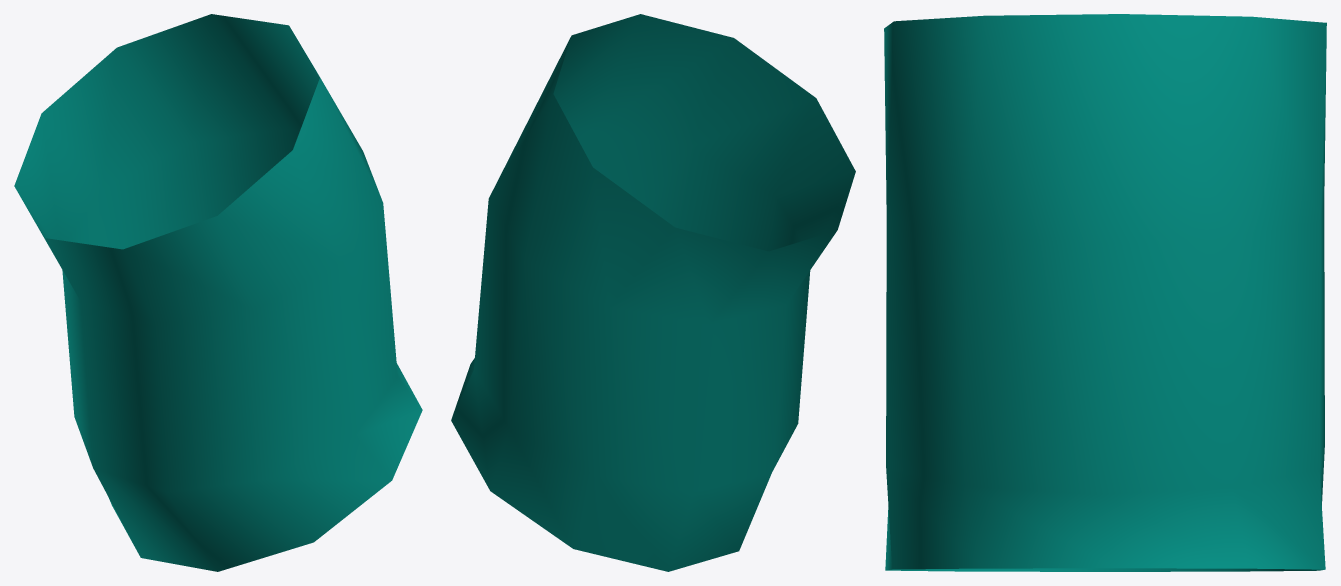
3 views of the same model, side by side, from view 1: azimuth 30°, elevation 25°; view 2: azimuth 150°, elevation 25°; view 3: azimuth 270°, elevation 25° (orthographic). The views are drawn at different scales.
Visible parts, largest first — view 1: TubeRenderer(Clone); view 2: TubeRenderer(Clone); view 3: TubeRenderer(Clone).
Part boxes in pixels (x1,y1,x2,y2): TubeRenderer(Clone): (14,14,422,571); TubeRenderer(Clone): (451,14,855,571); TubeRenderer(Clone): (884,14,1326,571).
Size of the model in its own units: 0.165 by 0.2139 by 0.1294.
